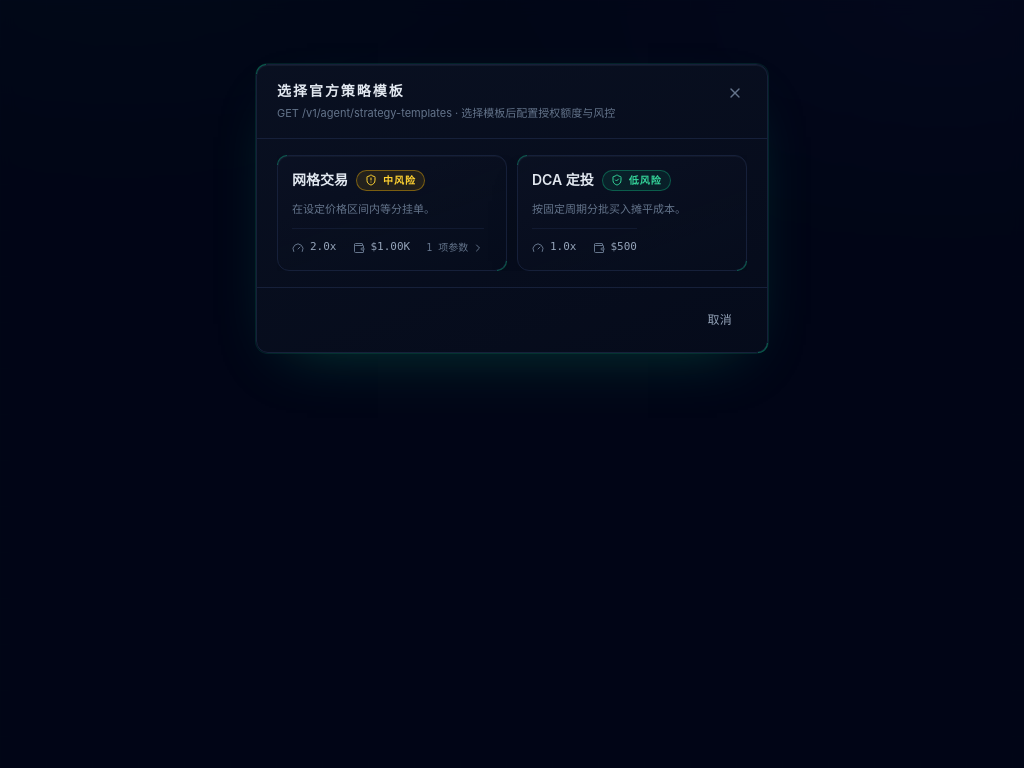
LaunchTemplateModal 模板选择 › 选中模板后进入配置表单并预填模板默认值
The width and height of the screenshot is (1024, 768).
Click the button "网格交易 中风险 在设定价格区间内等分挂单。 2.0x $1.00K 1 项参数": (392,213) [277,154,507,271]
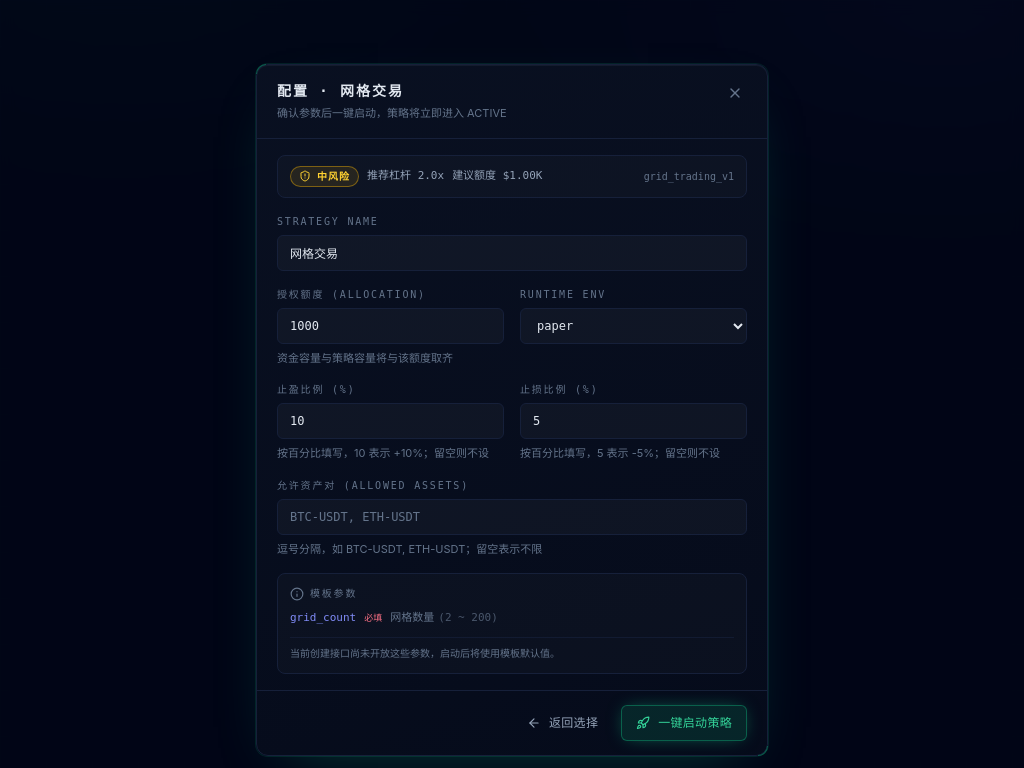
Expected: the field labelled "Strategy Name" holds "网格交易", [277,234,747,270]
Expected: the field labelled "授权额度 (Allocation)" holds "1000", [277,308,504,344]
